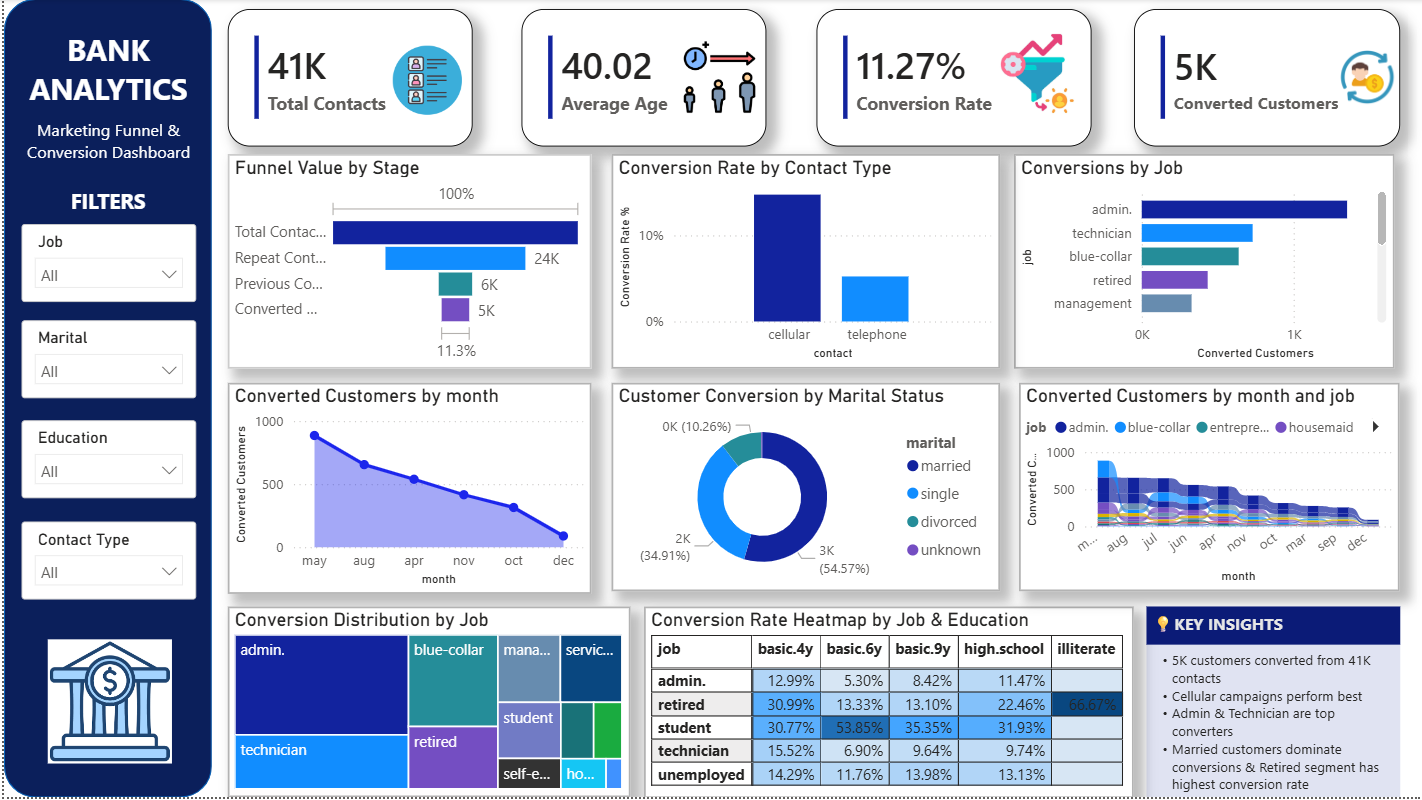

Layout of this report page (visuals, bound fields, positions):
{"tool":"powerbi","page":{"name":"Page 1","canvas":[1280,720],"ordinal":0},"visuals":[{"type":"shape","box":[0,0,187.5,720],"z":0},{"type":"textbox","box":[8.8,22.5,170,80],"z":1000},{"type":"textbox","box":[0,102.5,188.8,62.5],"z":2000},{"type":"textbox","box":[51.2,165,86.2,37.5],"z":3000},{"type":"slicer","fields":{"Values":["bank-additional-full.job"]},"box":[16.2,202.5,157.5,70],"z":4000},{"type":"slicer","fields":{"Values":["bank-additional-full.marital"]},"box":[16.2,290,157.5,70],"z":5000},{"type":"slicer","fields":{"Values":["bank-additional-full.education"]},"box":[16.2,380,157.5,70],"z":6000},{"type":"slicer","fields":{"Values":["bank-additional-full.contact"]},"box":[16.2,471.2,157.5,70],"z":7000},{"type":"cardVisual","title":"Total Customers","fields":{"Data":["bank-additional-full.Total Contacts"]},"box":[201.6,9.5,220.6,123.9],"z":8000},{"type":"cardVisual","title":"Total Customers","fields":{"Data":["bank-additional-full.Converted Customers"]},"box":[1018.8,9.5,239.7,123.9],"z":9000},{"type":"cardVisual","title":"Total Customers","fields":{"Data":["bank-additional-full.Average Age"]},"box":[467.2,9.5,220.6,123.9],"z":10000},{"type":"cardVisual","title":"Total Customers","fields":{"Data":["bank-additional-full.Conversion Rate %","select"]},"box":[732.8,9.5,247.9,123.9],"z":11000},{"type":"clusteredBarChart","title":"Conversions by Job","fields":{"Category":["bank-additional-full.job"],"Y":["bank-additional-full.Converted Customers"]},"box":[911.2,140.3,343.2,193.4],"z":12000},{"type":"funnel","fields":{"Category":["Funnel Stage.Stage"],"Y":["Funnel Stage.Funnel Value"]},"box":[201.6,140.3,328.2,193.4],"z":13000},{"type":"columnChart","title":"Conversion Rate by Contact Type","fields":{"Y":["bank-additional-full.Conversion Rate %"],"Category":["bank-additional-full.contact"]},"box":[547.5,140.3,350,193.4],"z":14000},{"type":"lineChart","fields":{"Y":["bank-additional-full.Converted Customers"],"Category":["Table.month"]},"box":[201.6,345.9,328.2,190.7],"z":15000},{"type":"donutChart","title":"Customer Conversion by Marital Status","fields":{"Category":["bank-additional-full.marital"],"Y":["bank-additional-full.Converted Customers"]},"box":[547.5,345.9,350,188],"z":16000},{"type":"treemap","title":"Conversion Distribution by Job","fields":{"Group":["bank-additional-full.job"],"Values":["bank-additional-full.Converted Customers"]},"box":[202,548,363,172],"z":17000},{"type":"pivotTable","title":"Conversion Rate Heatmap by Job & Education","fields":{"Rows":["bank-additional-full.job"],"Columns":["bank-additional-full.education"],"Values":["bank-additional-full.Conversion Rate %"]},"box":[577.5,547.5,441.3,173],"z":18000},{"type":"ribbonChart","fields":{"Category":["bank-additional-full.month"],"Series":["bank-additional-full.job"],"Y":["bank-additional-full.Converted Customers"]},"box":[915.3,345.9,343.2,188],"z":19000},{"type":"textbox","box":[1029.7,547.5,228.8,173],"z":19001},{"type":"textbox","box":[1029.7,547.5,228.8,34],"z":19002},{"type":"image","box":[350,23.2,62.7,99.4],"z":19003},{"type":"image","box":[611.5,36.8,66.7,66.7],"z":19004},{"type":"image","box":[883.9,30,96.7,73.5],"z":19005},{"type":"image","box":[1205.4,36.8,49,66.7],"z":19006},{"type":"image","box":[39.5,547.5,111.7,171.6],"z":19007}]}

Visuals, with their boxes in screenshot pixels (x1, y1, x2, y2), scaled from the page's 1280x720 canvas onto the 1422x800 screenshot:
shape: 0, 0, 208, 799
textbox: 10, 25, 199, 114
textbox: 0, 114, 210, 183
textbox: 57, 183, 153, 225
slicer - bank-additional-full.job: 18, 225, 193, 303
slicer - bank-additional-full.marital: 18, 322, 193, 400
slicer - bank-additional-full.education: 18, 422, 193, 500
slicer - bank-additional-full.contact: 18, 524, 193, 601
"Total Customers" cardVisual: 224, 11, 469, 148
"Total Customers" cardVisual: 1132, 11, 1398, 148
"Total Customers" cardVisual: 519, 11, 764, 148
"Total Customers" cardVisual: 814, 11, 1089, 148
"Conversions by Job" clusteredBarChart: 1012, 156, 1394, 371
funnel - Funnel Stage.Stage x Funnel Stage.Funnel Value: 224, 156, 589, 371
"Conversion Rate by Contact Type" columnChart: 608, 156, 997, 371
lineChart - bank-additional-full.Converted Customers x Table.month: 224, 384, 589, 596
"Customer Conversion by Marital Status" donutChart: 608, 384, 997, 593
"Conversion Distribution by Job" treemap: 224, 609, 628, 799
"Conversion Rate Heatmap by Job & Education" pivotTable: 642, 608, 1132, 799
ribbonChart - bank-additional-full.month x bank-additional-full.job: 1017, 384, 1398, 593
textbox: 1144, 608, 1398, 799
textbox: 1144, 608, 1398, 646
image: 389, 26, 458, 136
image: 679, 41, 753, 115
image: 982, 33, 1089, 115
image: 1339, 41, 1394, 115
image: 44, 608, 168, 799
